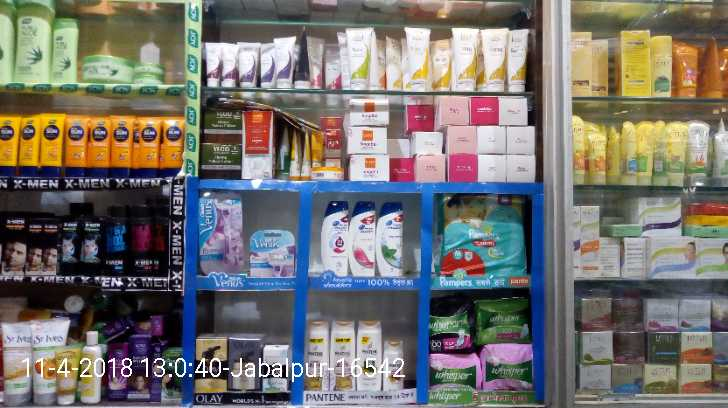venus: (198, 191, 244, 274), (249, 229, 295, 277)
